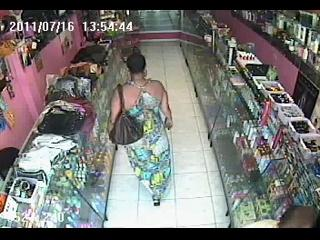Normal: (108, 53, 174, 207), (110, 84, 144, 146)
